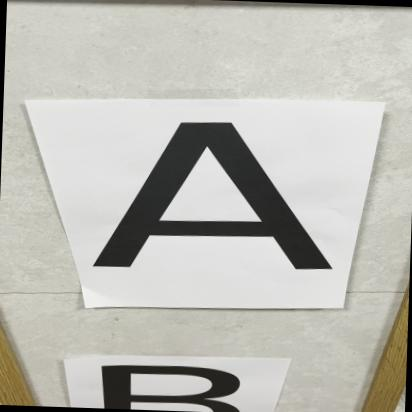seat: (88, 117, 355, 288)
